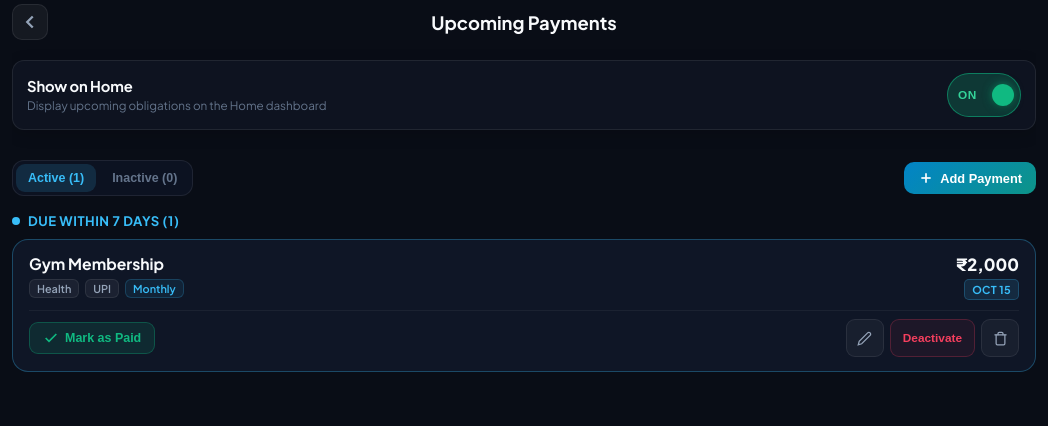
it: UpcomingPaymentsView - MAS-01 UI concurrency & double-click protection › disables button on click and prevents double-submission on rapid repeated clicks
Note: First click: triggers operation and enters processing state
Click the button with class "btn-mark-paid".
click(92, 338)  # box left=29, top=322, right=155, bottom=354
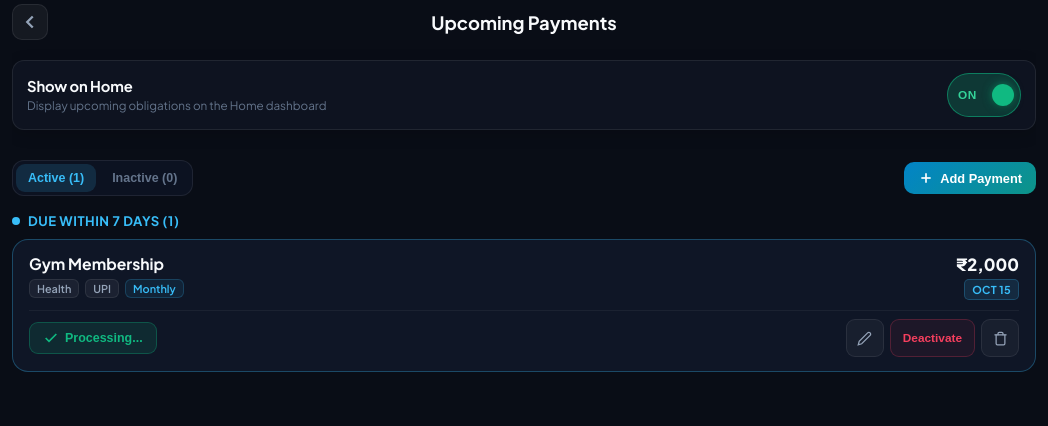
Expected: the button with class "btn-mark-paid" is disabled
Expected: the button with class "btn-mark-paid" reads "Processing..."
Note: Rapid second click while in-flight
Click the button with class "btn-mark-paid".
click(93, 338)  # box left=29, top=322, right=157, bottom=354
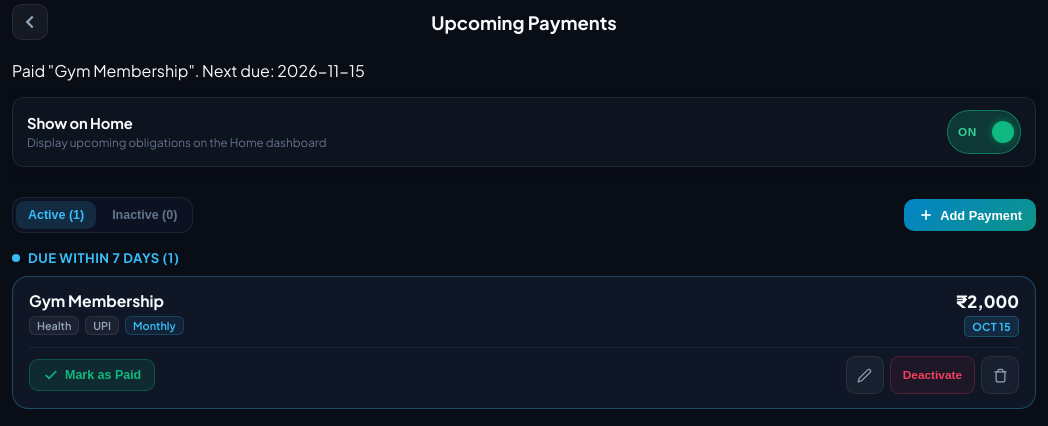
Expected: the button with class "btn-mark-paid" is enabled, left=29, top=359, right=155, bottom=391
Expected: the button with class "btn-mark-paid" reads "Mark as Paid", left=29, top=359, right=155, bottom=391
